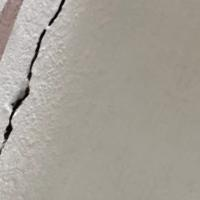crack: (0, 0, 79, 167)
